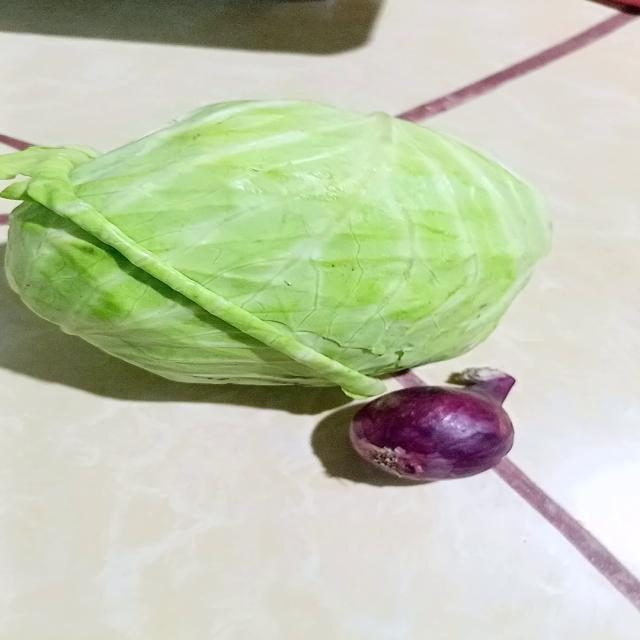cabbage: (0, 100, 555, 399)
onion: (346, 371, 517, 483)
